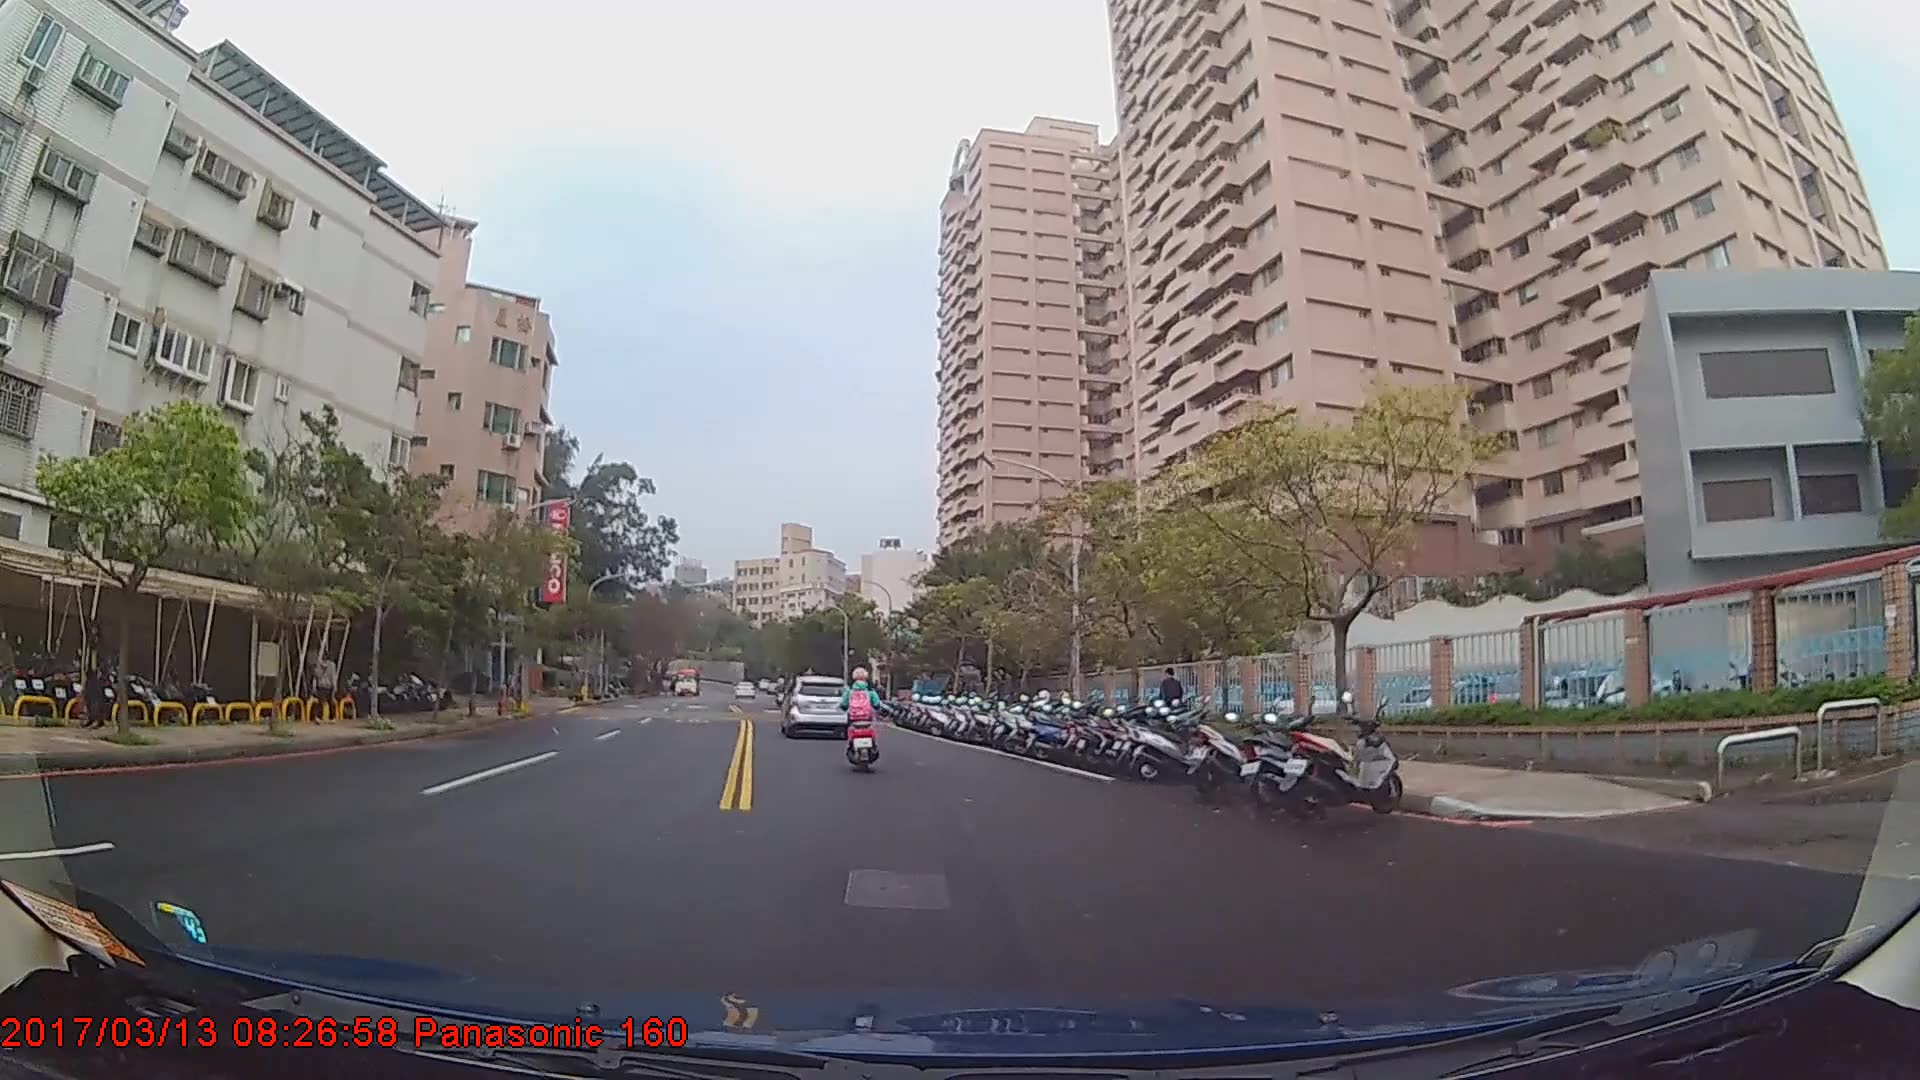pedestrian: (79, 617, 117, 729), (313, 648, 341, 728), (1159, 668, 1187, 742)
rider: (845, 667, 885, 769)
vehicle: (780, 673, 852, 736), (670, 665, 702, 697)
